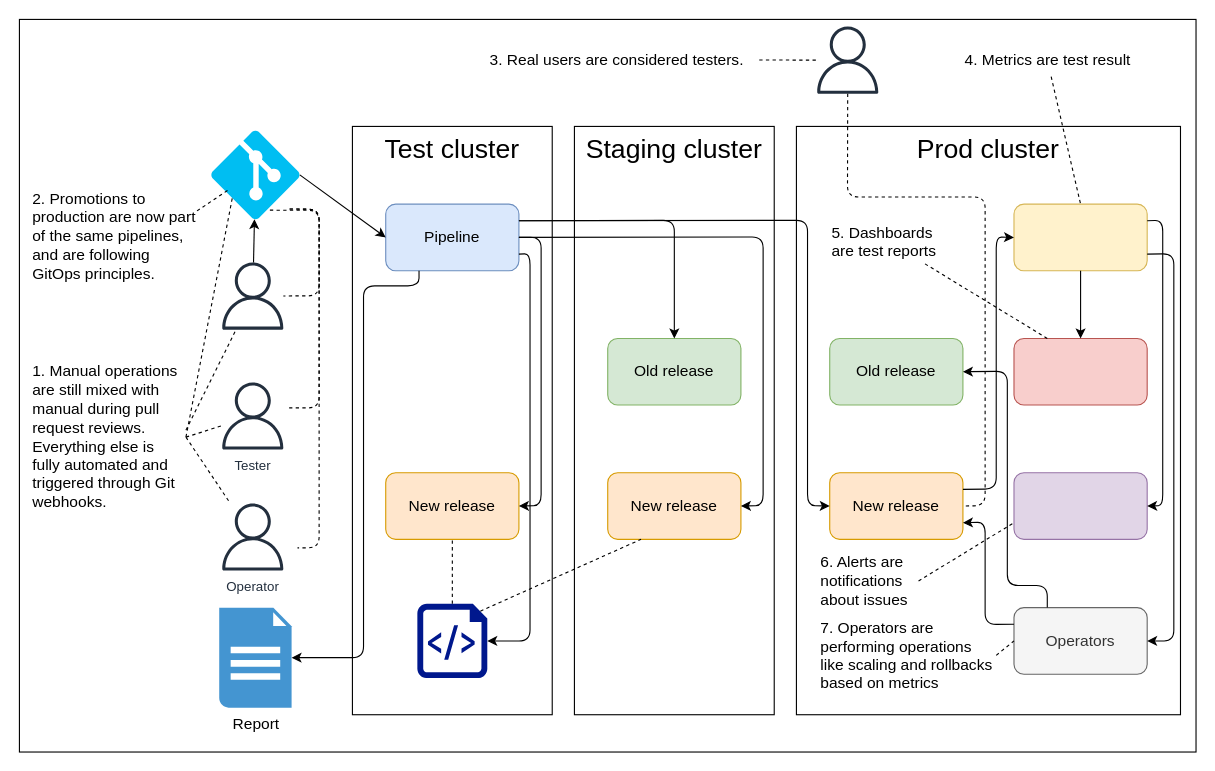
This 1215x771 diagram has some shape labels left out. The centre of each missing label's shape, as x and y in pixels:
Alerts: the point at 1080,505
Dashboards: the point at 1080,371
Developer: the point at 252,295
Metrics DB: the point at 1080,237
Tests: the point at 452,640
User: the point at 847,59
